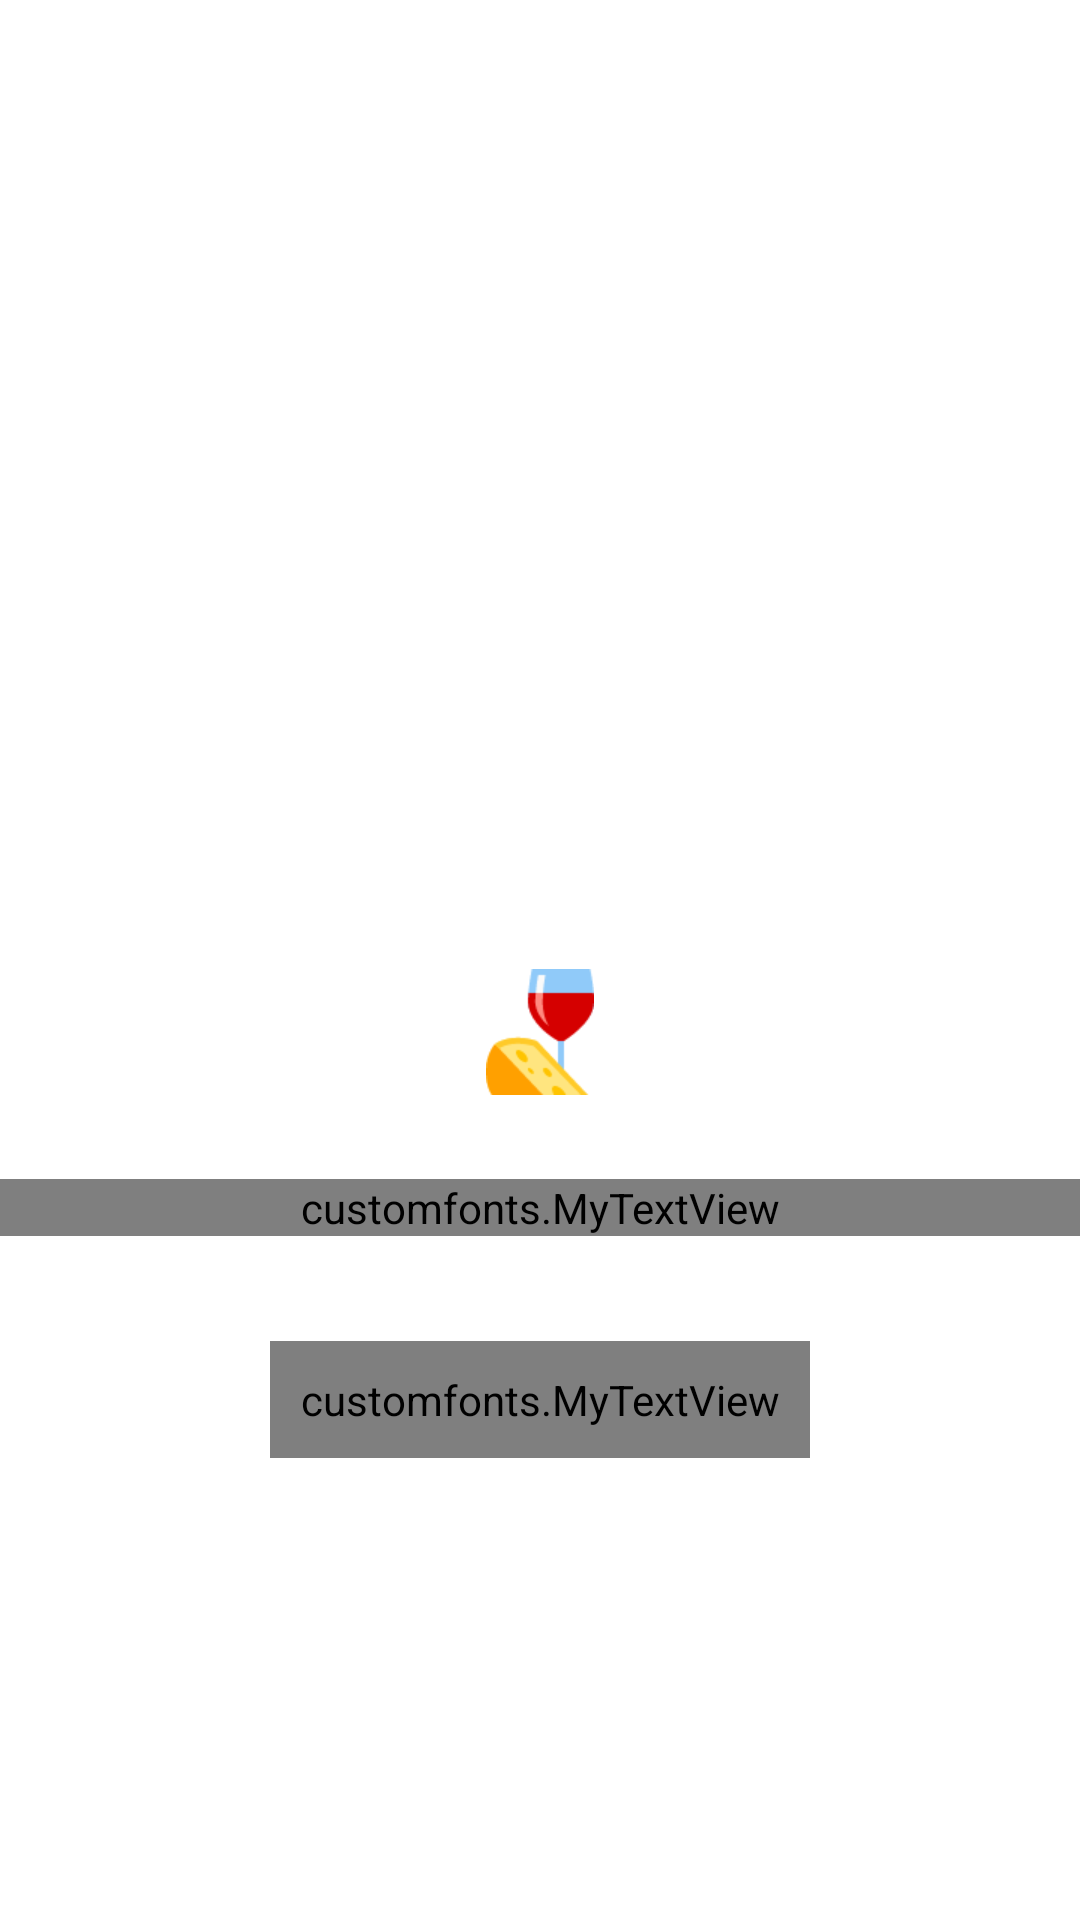

Screen size 1080*1920. Icon name, then its center in pixels as point (x, y):
food: point (540, 1032)
